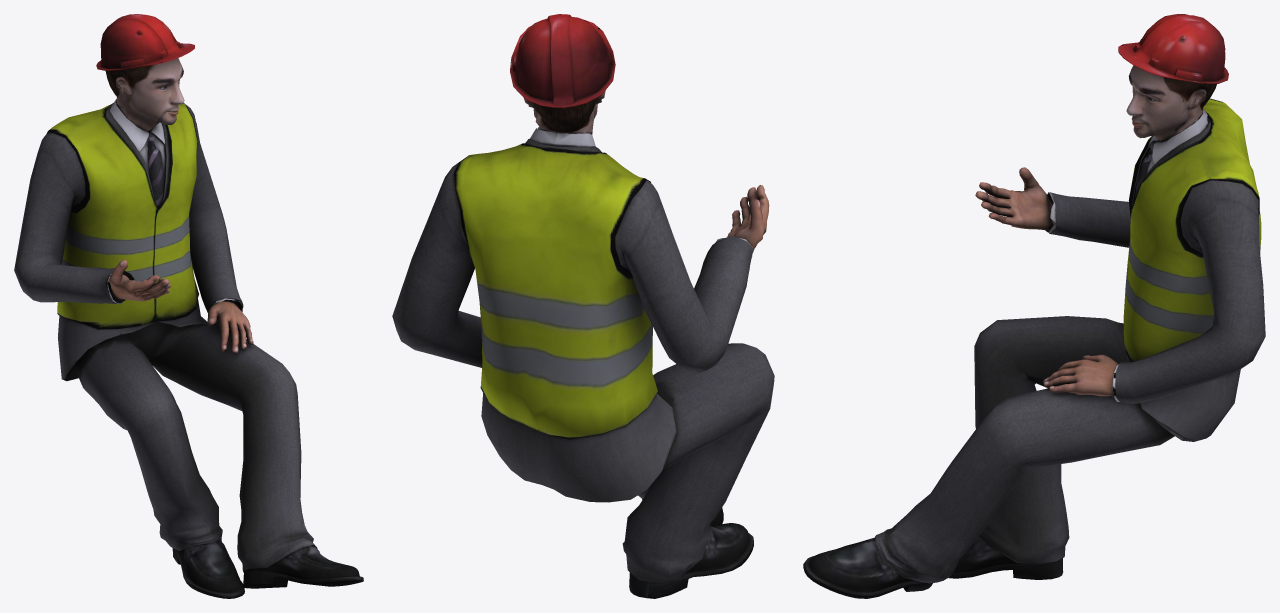
Rendered from SWRK01_01_02.FBX.
The picture shows the model from 3 angles, left to right: view 1: azimuth 30°, elevation 25°; view 2: azimuth 150°, elevation 25°; view 3: azimuth 270°, elevation 25°; orthographic projection. The views are drawn at different scales.
Visible parts, largest first — view 1: SWRK01_01_02; view 2: SWRK01_01_02; view 3: SWRK01_01_02.
Part boxes in pixels (x1,y1,x2,y2): SWRK01_01_02: (14, 14, 363, 598); SWRK01_01_02: (392, 14, 774, 598); SWRK01_01_02: (803, 14, 1265, 598).
Size of the model in its own units: 26.16 by 54.6 by 40.56.
1 material, 1 textured.
